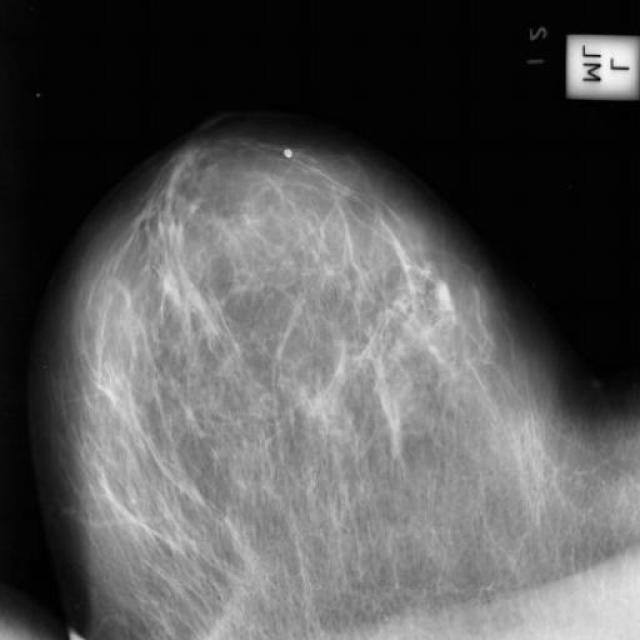cancer: (420, 316, 464, 384)
